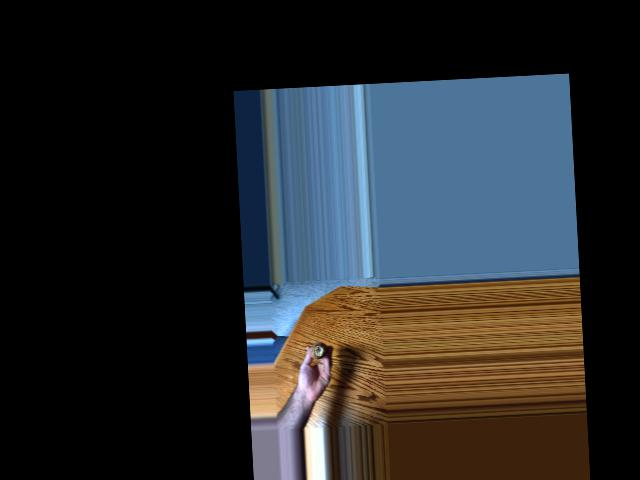sweet_potato: (307, 337, 325, 360)
